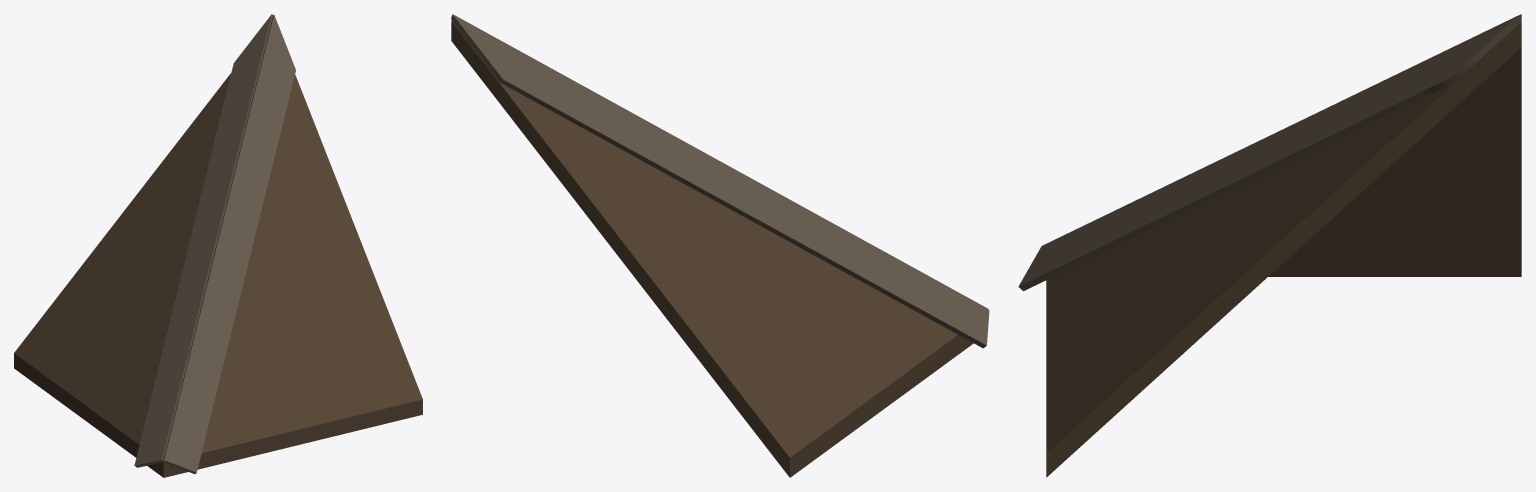
Rendered from dach_grat_2x2.glb.
3 renders of one model, left to right at view 1: azimuth 30°, elevation 25°; view 2: azimuth 150°, elevation 25°; view 3: azimuth 270°, elevation 25°, orthographic. The views are drawn at different scales.
Parts seen in each view (by area): view 1: dach_grat_2x2; view 2: dach_grat_2x2; view 3: dach_grat_2x2.
Part boxes in pixels (bbox=[...]): dach_grat_2x2: bbox=[14, 14, 422, 477]; dach_grat_2x2: bbox=[451, 14, 989, 477]; dach_grat_2x2: bbox=[1018, 14, 1521, 477].
Size of the model in its own units: 2.12 by 2.15 by 2.12.
